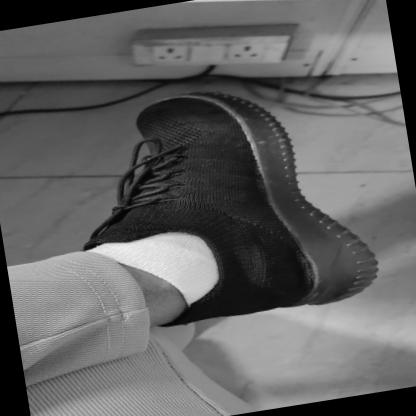ankle: (212, 245, 229, 253)
heel: (295, 297, 303, 301)
pinky: (144, 133, 153, 138)
right_foot: (87, 68, 388, 337)
toe: (197, 102, 209, 107)
